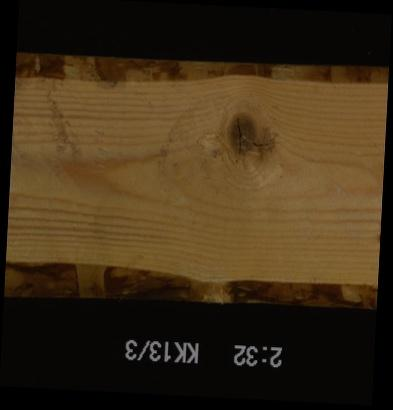sound_knot: (222, 113, 258, 161)
split: (238, 133, 286, 154)
wave: (3, 264, 375, 306), (14, 56, 386, 91)
